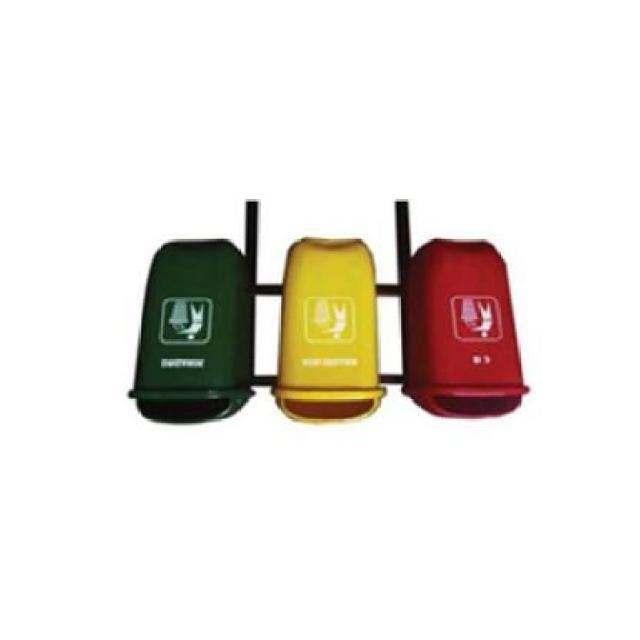garbage container: (119, 220, 275, 428), (390, 216, 538, 435), (263, 226, 396, 434)
